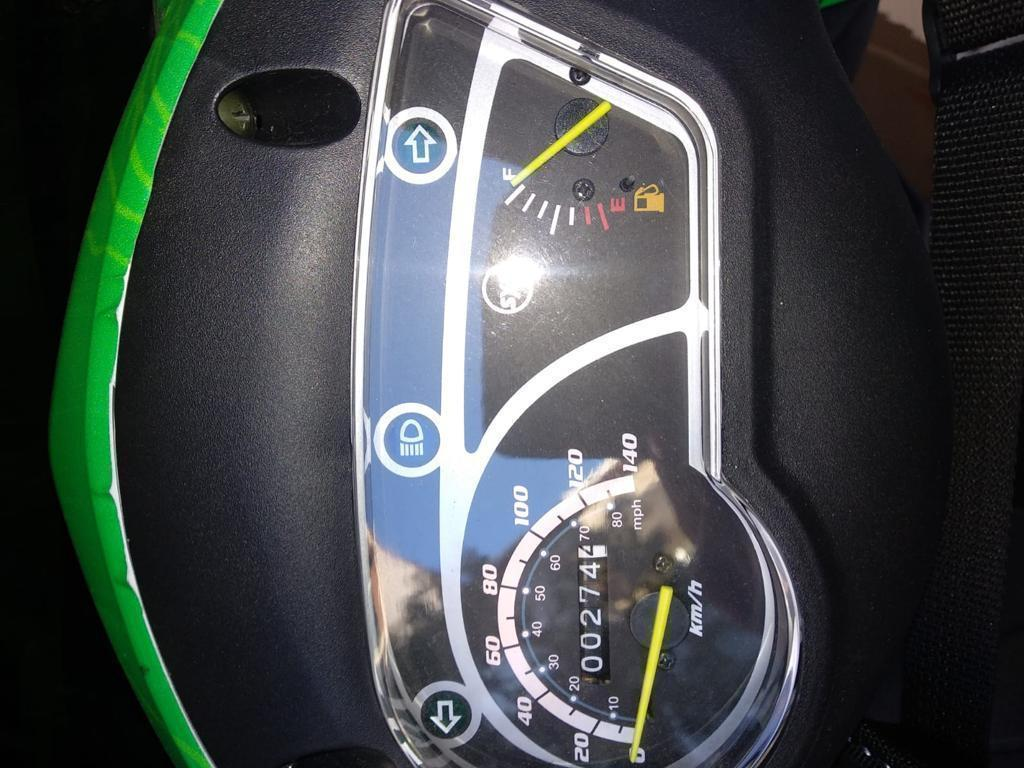0: (580, 655, 603, 672), (579, 633, 601, 649)
2: (579, 608, 601, 626)
4: (578, 561, 600, 579), (577, 542, 596, 556)
7: (578, 585, 600, 602)
odometer: (575, 542, 611, 679)
